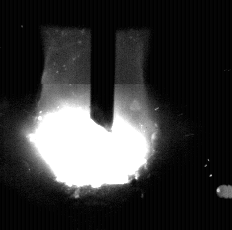arame: (91, 0, 115, 132)
poca: (32, 0, 154, 230)
